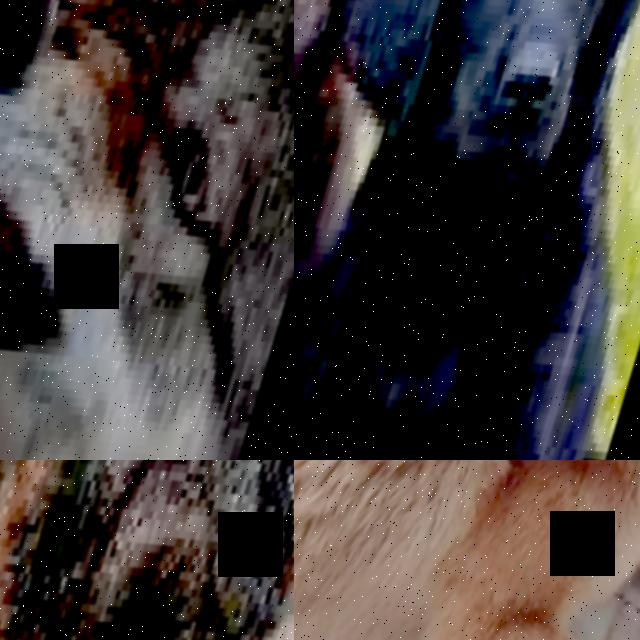dog: (294, 0, 640, 460), (294, 0, 526, 460), (0, 460, 294, 640)
wolf: (0, 0, 294, 460), (294, 460, 640, 640)
